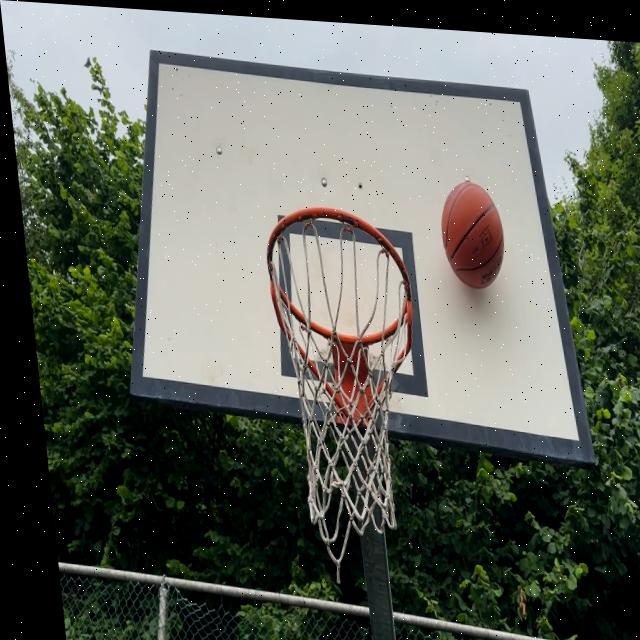rebound_hit: (435, 179, 509, 295)
